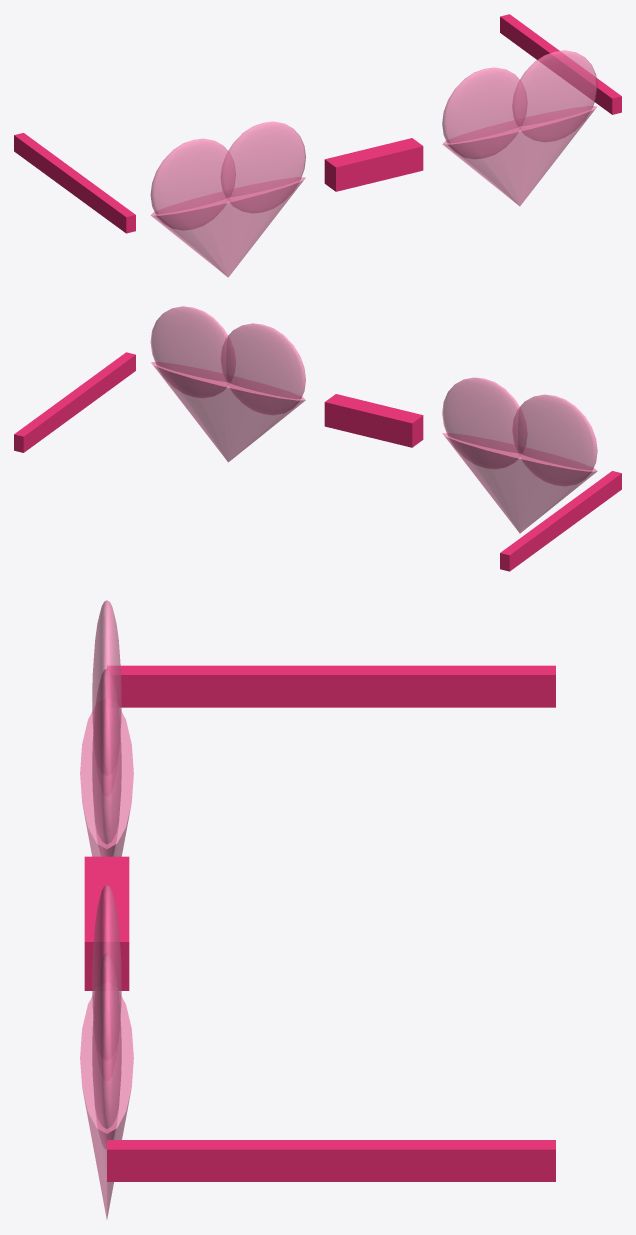
Rendered from heart.glb.
3 views of the same model, one above another, from view 1: azimuth 30°, elevation 25°; view 2: azimuth 150°, elevation 25°; view 3: azimuth 270°, elevation 25° (orthographic). The views are drawn at different scales.
Parts seen in each view (by area): view 1: heart; view 2: heart; view 3: heart.
Part boxes in pixels (<box>): heart: <box>14,14,621,277</box>; heart: <box>14,306,621,571</box>; heart: <box>80,600,555,1219</box>.
Size of the model in its own units: 0.255 by 0.072 by 0.106.
